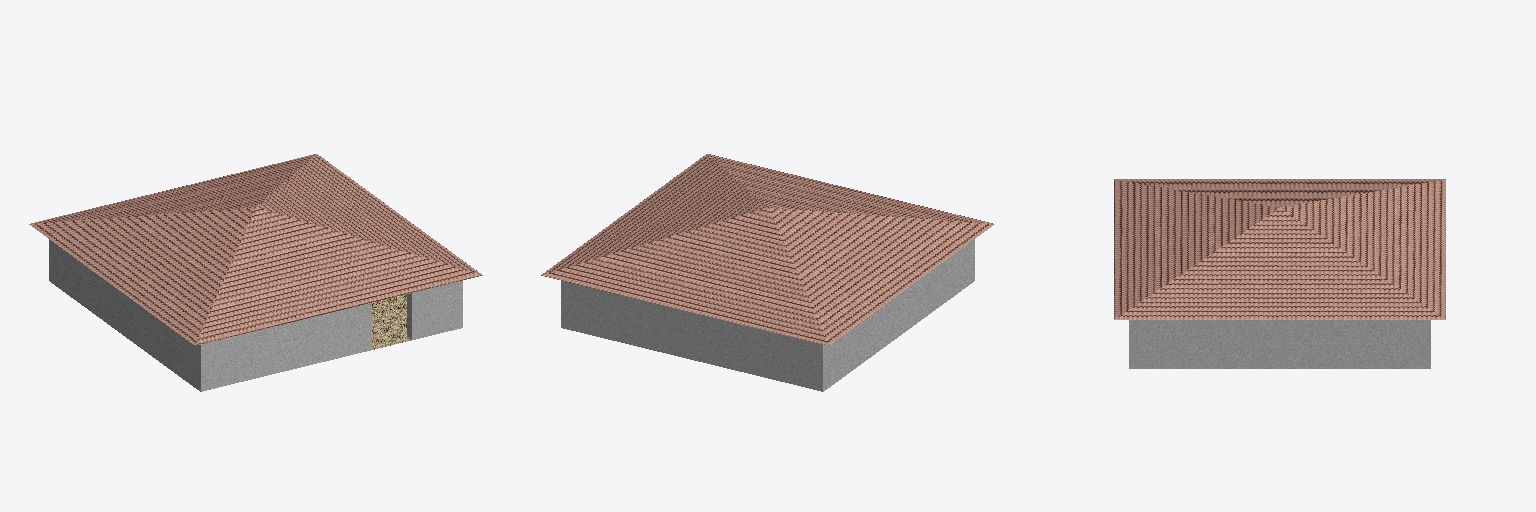
3 renders of one model, left to right at view 1: azimuth 30°, elevation 25°; view 2: azimuth 150°, elevation 25°; view 3: azimuth 270°, elevation 25°, orthographic.
Visible parts, largest first — view 1: House_Cube.003; view 2: House_Cube.003; view 3: House_Cube.003.
Part boxes in pixels (x1,y1,x2,y2): House_Cube.003: (29,154,482,391); House_Cube.003: (541,154,994,391); House_Cube.003: (1114,179,1445,368).
Size of the model in its own units: 10.99 by 3.54 by 10.99.
4 materials, 4 textured.